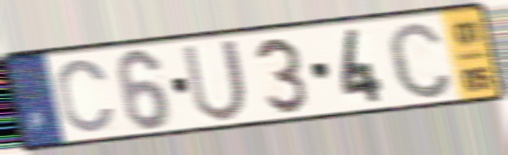3: (252, 32, 312, 116)
4: (339, 26, 386, 106)
6: (115, 45, 172, 133)
C: (384, 18, 456, 102), (54, 56, 118, 135)
U: (179, 36, 251, 124)
